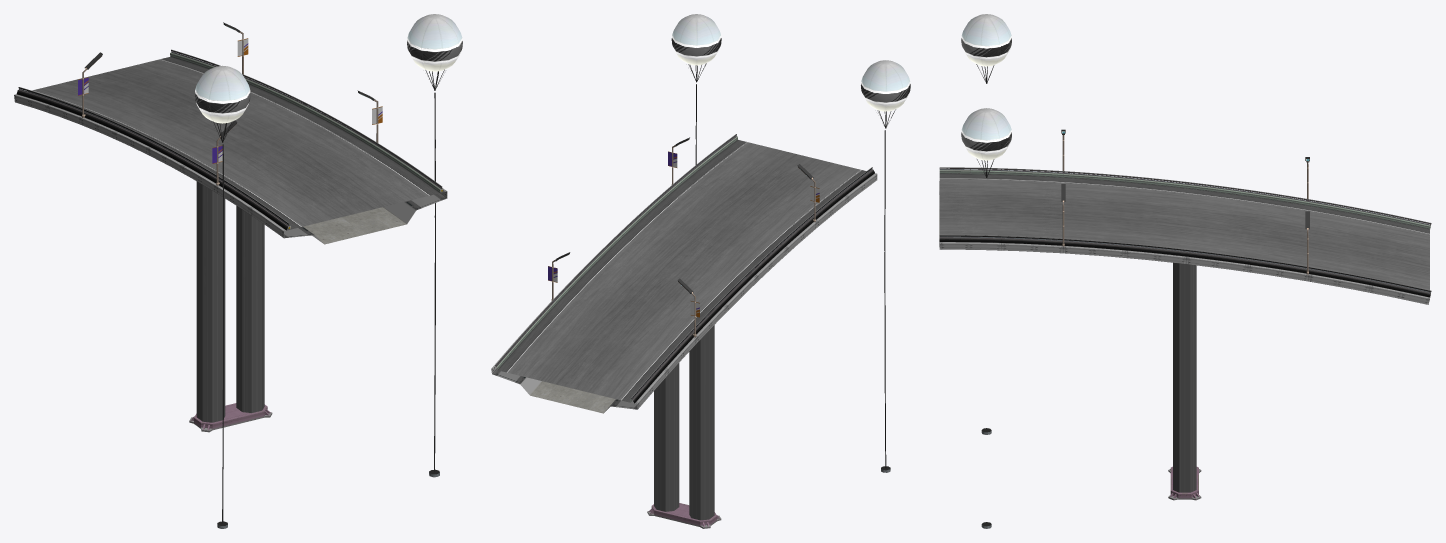
The picture shows the model from 3 angles, left to right: view 1: azimuth 30°, elevation 25°; view 2: azimuth 150°, elevation 25°; view 3: azimuth 270°, elevation 25°; orthographic projection. The views are drawn at different scales.
Parts seen in each view (by area): view 1: straight_road, support_pylon, standard_bridge, balloon_top, barrier_elevated, balloon_tether, support_ground; view 2: straight_road, support_pylon, standard_bridge, barrier_elevated, balloon_top, support_ground, balloon_tether; view 3: straight_road, barrier_elevated, support_pylon, balloon_top, standard_bridge.
Boxes of the visible parts, x1=… form: straight_road: x1=29, y1=56, x2=439, y2=229; support_pylon: x1=196, y1=181, x2=264, y2=422; standard_bridge: x1=14, y1=94, x2=447, y2=244; balloon_top: x1=194, y1=14, x2=462, y2=142; barrier_elevated: x1=16, y1=49, x2=444, y2=230; balloon_tether: x1=222, y1=92, x2=435, y2=523; support_ground: x1=189, y1=403, x2=272, y2=432; straight_road: x1=498, y1=140, x2=866, y2=402; support_pylon: x1=654, y1=325, x2=714, y2=520; standard_bridge: x1=491, y1=173, x2=877, y2=413; barrier_elevated: x1=494, y1=134, x2=874, y2=403; balloon_top: x1=671, y1=14, x2=910, y2=128; support_ground: x1=647, y1=503, x2=721, y2=528; balloon_tether: x1=695, y1=84, x2=886, y2=468; straight_road: x1=939, y1=174, x2=1429, y2=291; barrier_elevated: x1=939, y1=167, x2=1431, y2=297; support_pylon: x1=1173, y1=262, x2=1196, y2=492; balloon_top: x1=961, y1=14, x2=1011, y2=177; standard_bridge: x1=939, y1=181, x2=1429, y2=304.
Bounding box in the file's own units: 7142 × 11997 × 12842.
